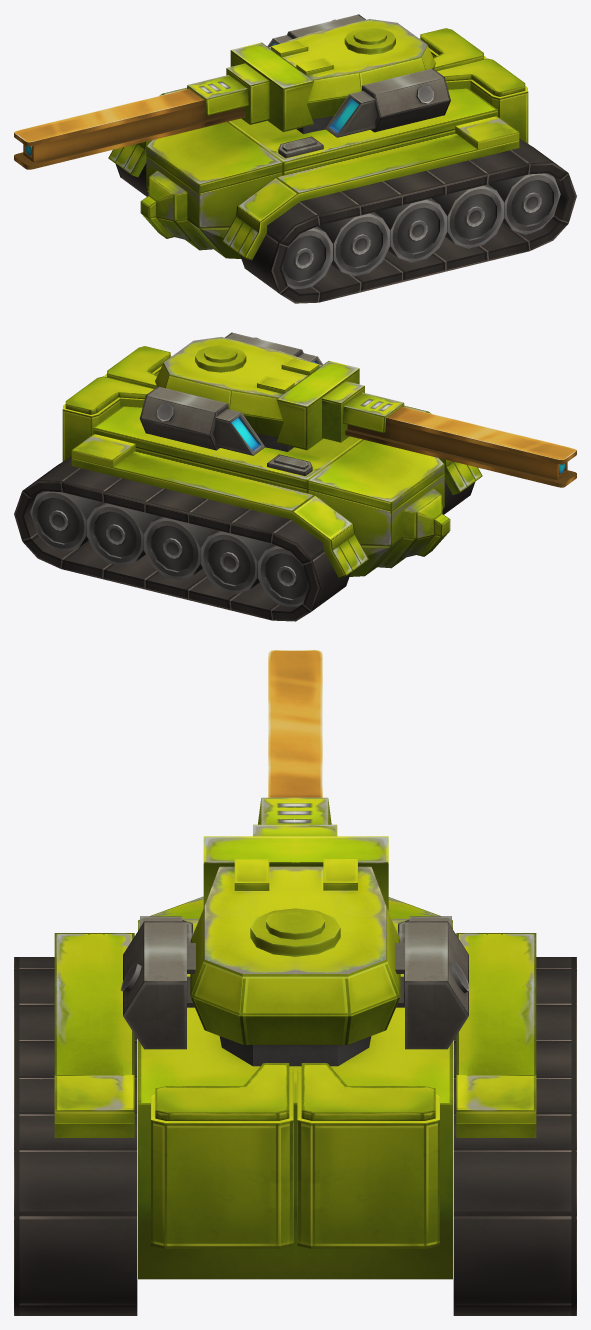
Rendered from tank2_level2.FBX.
The picture shows the model from 3 angles, top to bottom: view 1: azimuth 30°, elevation 25°; view 2: azimuth 150°, elevation 25°; view 3: azimuth 270°, elevation 25°; orthographic projection. The views are drawn at different scales.
Parts seen in each view (by area): view 1: tank2_level2, tank2_level2_weapon, tank2_level2_weapon2; view 2: tank2_level2, tank2_level2_weapon, tank2_level2_weapon2; view 3: tank2_level2, tank2_level2_weapon, tank2_level2_weapon2.
Part boxes in pixels (x1,y1,x2,y2): tank2_level2: [108, 28, 576, 303]; tank2_level2_weapon: [226, 14, 450, 137]; tank2_level2_weapon2: [14, 75, 248, 169]; tank2_level2: [14, 346, 482, 621]; tank2_level2_weapon: [139, 332, 364, 455]; tank2_level2_weapon2: [342, 392, 576, 487]; tank2_level2: [14, 896, 576, 1315]; tank2_level2_weapon: [120, 824, 470, 1066]; tank2_level2_weapon2: [258, 650, 331, 824].
Size of the model in its own units: 65.65 by 23.39 by 37.98.
